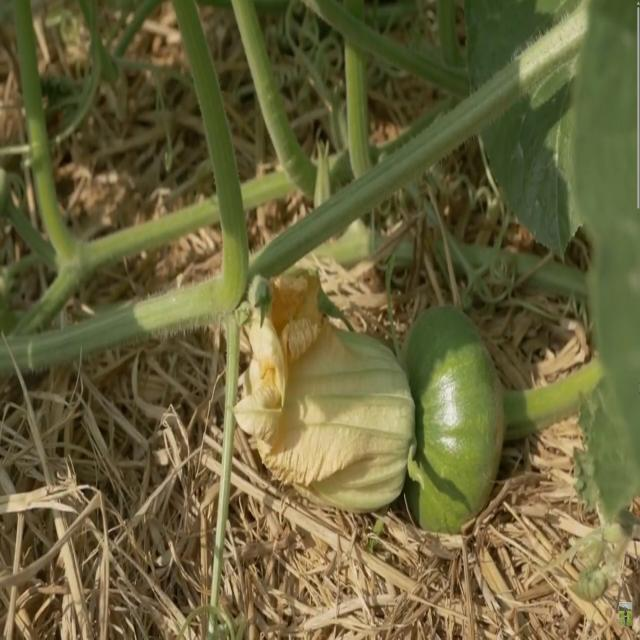flower: (227, 264, 416, 518)
squash: (401, 305, 507, 532)
